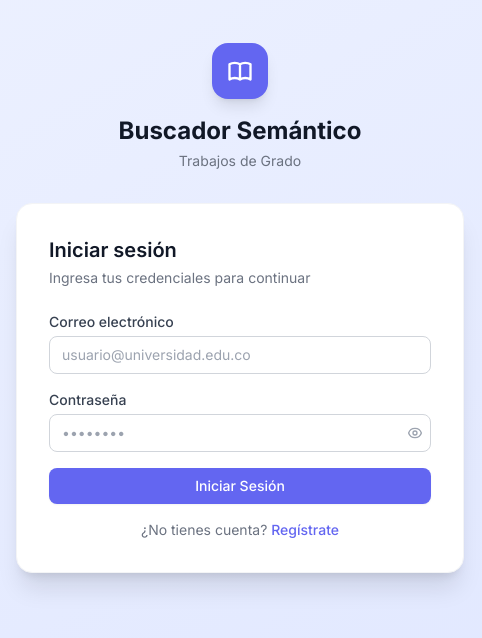
Test: LoginPage › 5b. muestra mensaje genérico si el servidor no devuelve mensaje
Type "test@uni.edu.co" into the field labelled "Correo electrónico".
click(240, 355); type("test@uni.edu.co")  # box [49,336,431,374]
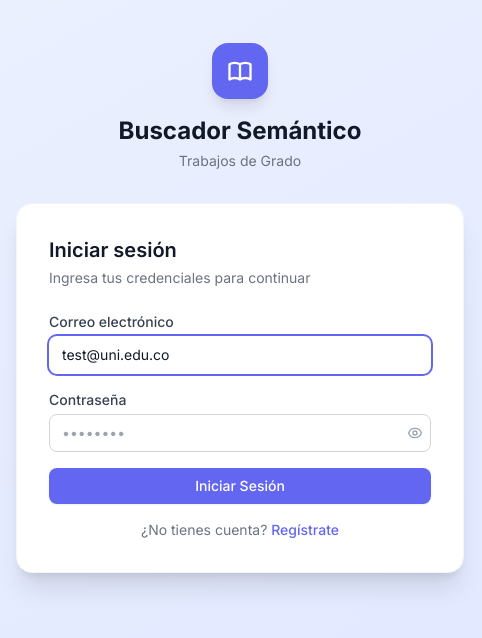
Type "somepass1" into the password field with placeholder "••••••••".
click(240, 433); type("somepass1")  # box [49,414,431,452]
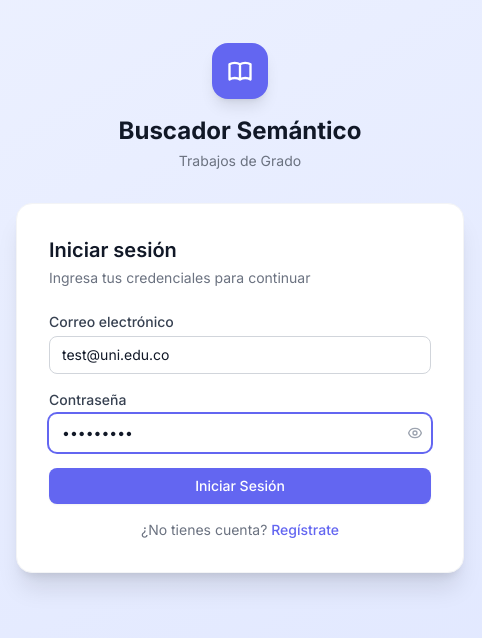
Click the button "Iniciar Sesión".
click(240, 486)  # box [49,468,431,504]
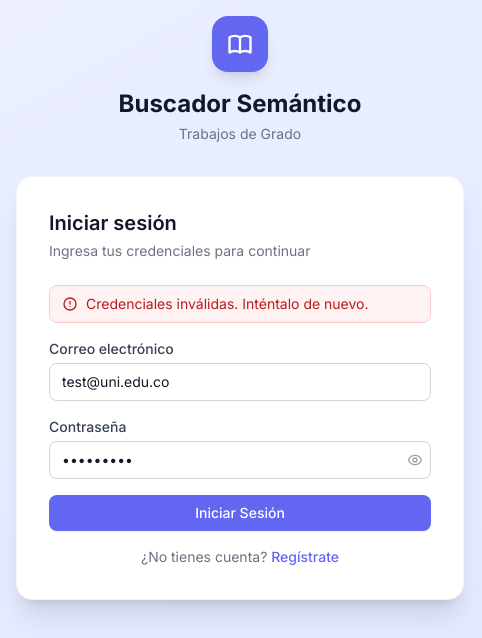
Expected: the text "Credenciales inválidas. Inténtalo de nuevo." is shown, [86,294,368,314]
